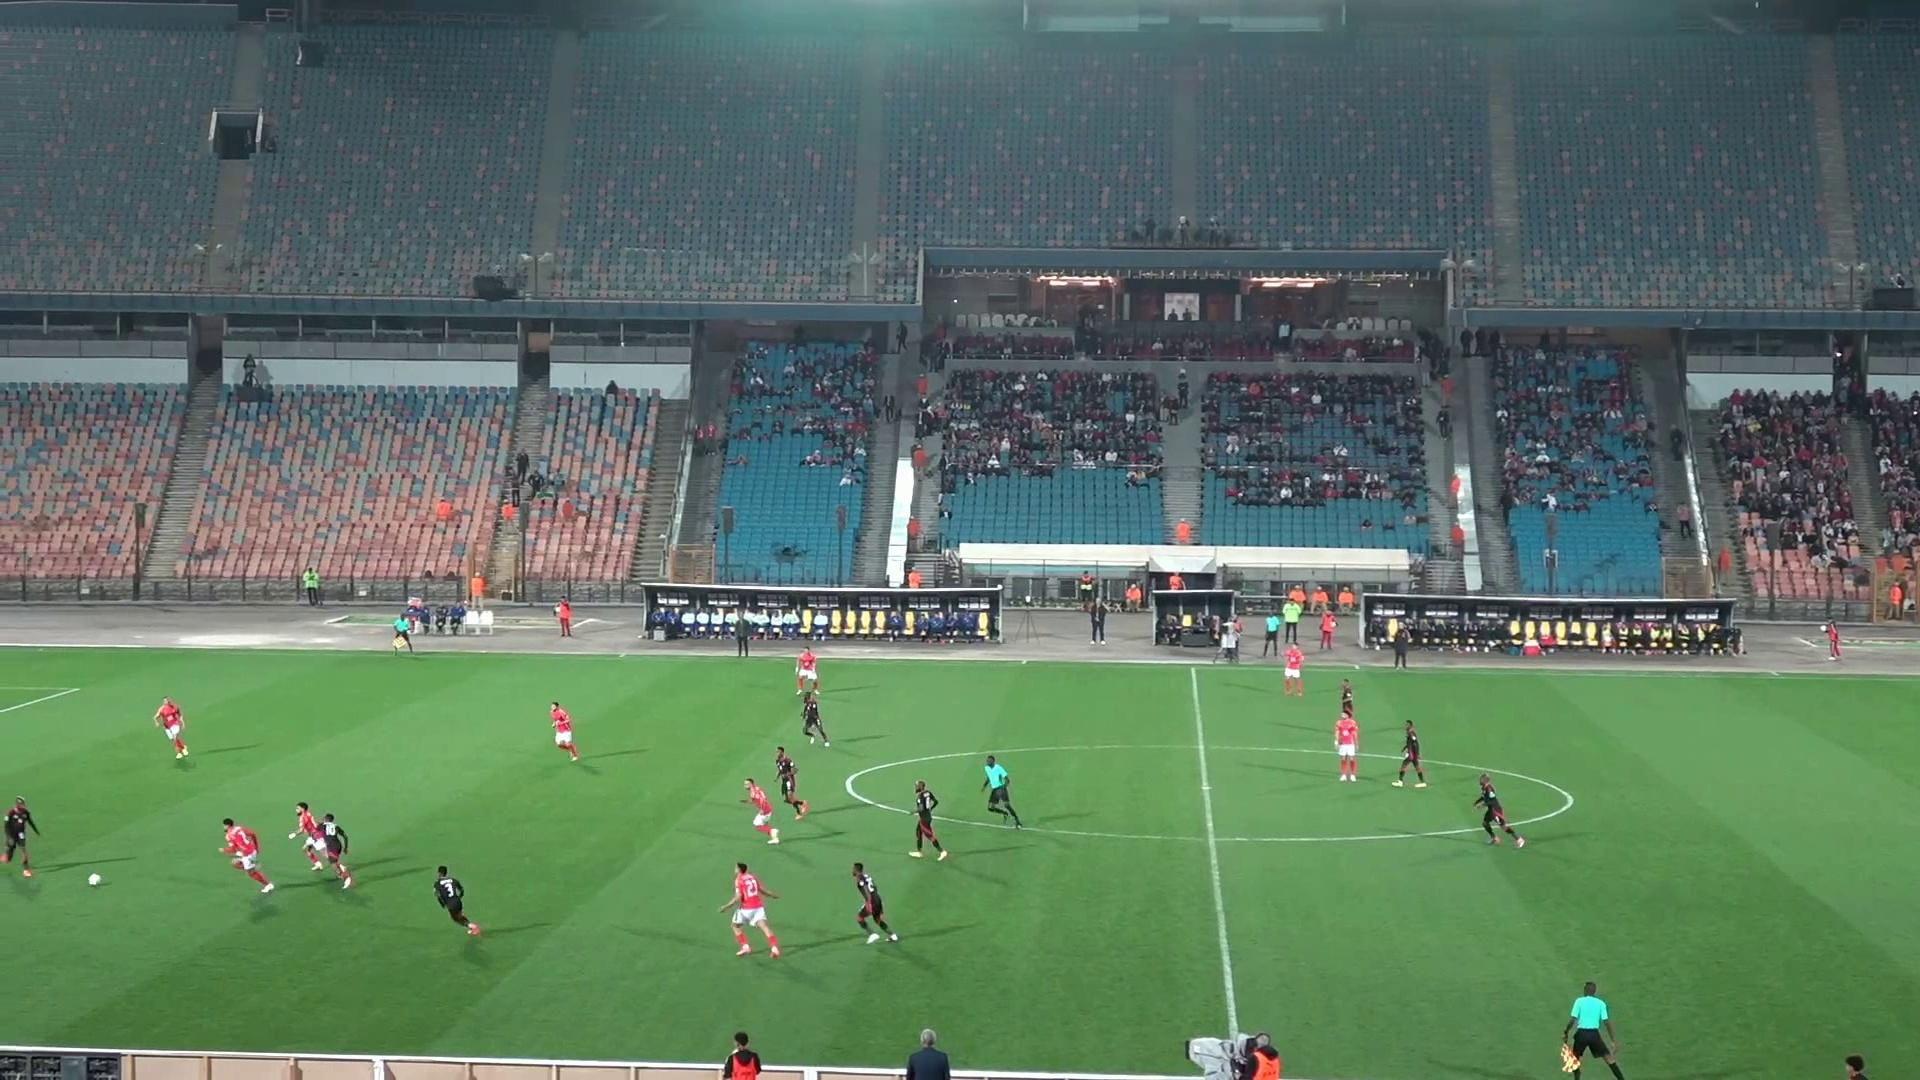Ball: (84, 870, 108, 887)
Refree: (1563, 982, 1625, 1079), (982, 756, 1023, 827), (392, 613, 413, 651)
Team1: (721, 862, 781, 957), (222, 818, 273, 891), (287, 803, 324, 870), (745, 779, 781, 844), (153, 698, 189, 758), (1335, 700, 1358, 782), (551, 702, 579, 761), (1282, 642, 1304, 696), (796, 647, 819, 694)
Team2: (851, 862, 899, 942), (1473, 773, 1524, 847), (433, 866, 481, 934), (0, 798, 40, 877), (910, 781, 948, 860), (318, 812, 353, 887), (775, 746, 808, 819), (1393, 723, 1427, 786), (802, 688, 831, 746)
